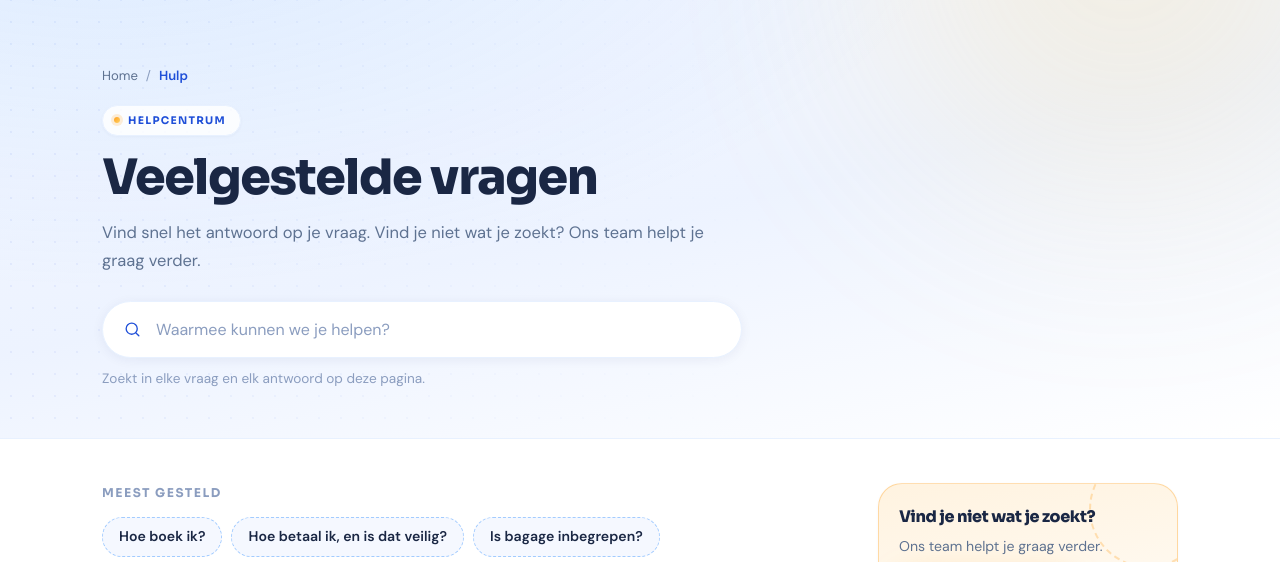
Test: FAQ page › offers a way back when nothing matches
The width and height of the screenshot is (1280, 562).
In the search field named "zoek in de veelgestelde vragen": coordinates (442, 329) [142, 302, 741, 357], type "zzzqqq"
(page scrolled)
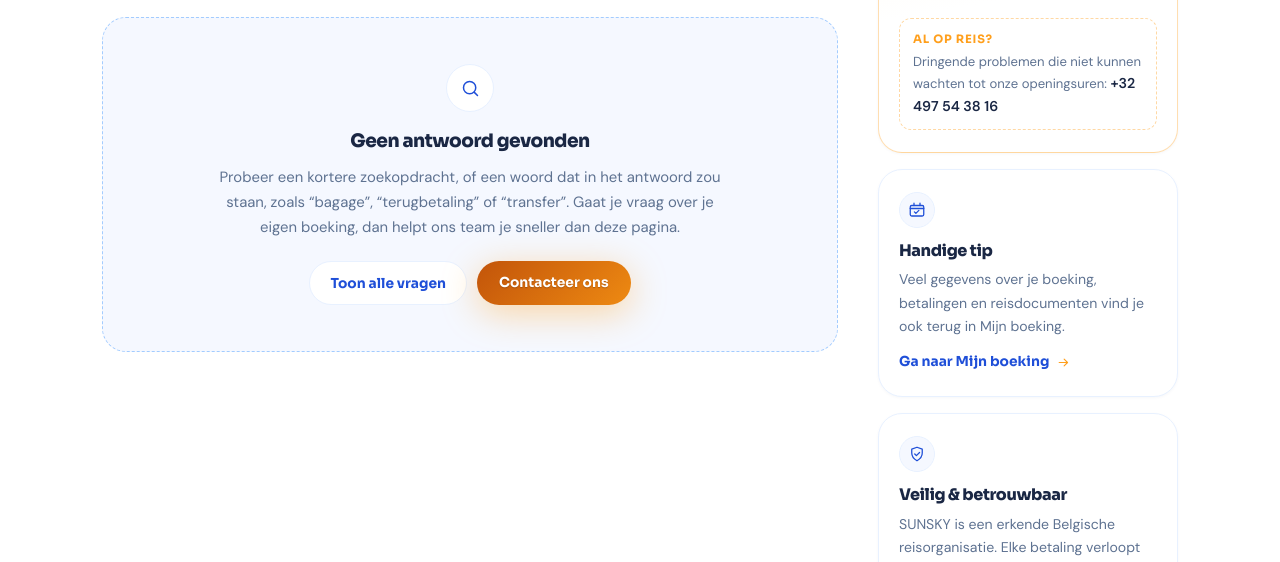
Click the button "Toon alle vragen": coordinates (388, 283) [309, 261, 467, 305]
(page scrolled)
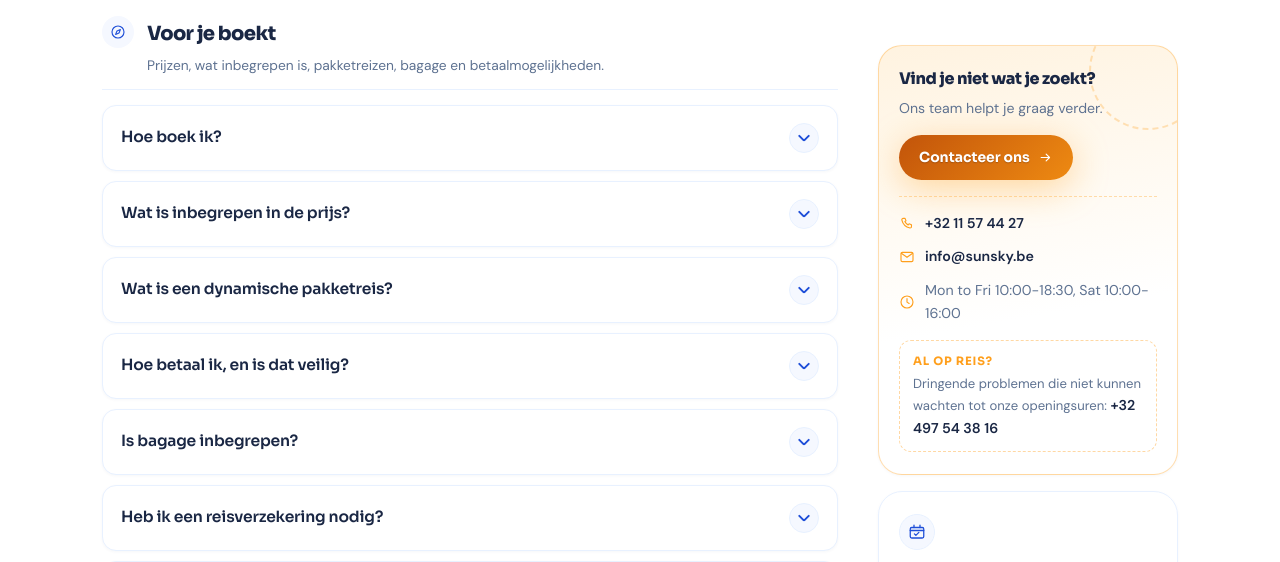
Check: the heading "Voor je boekt" is shown, box [147, 21, 276, 46]
